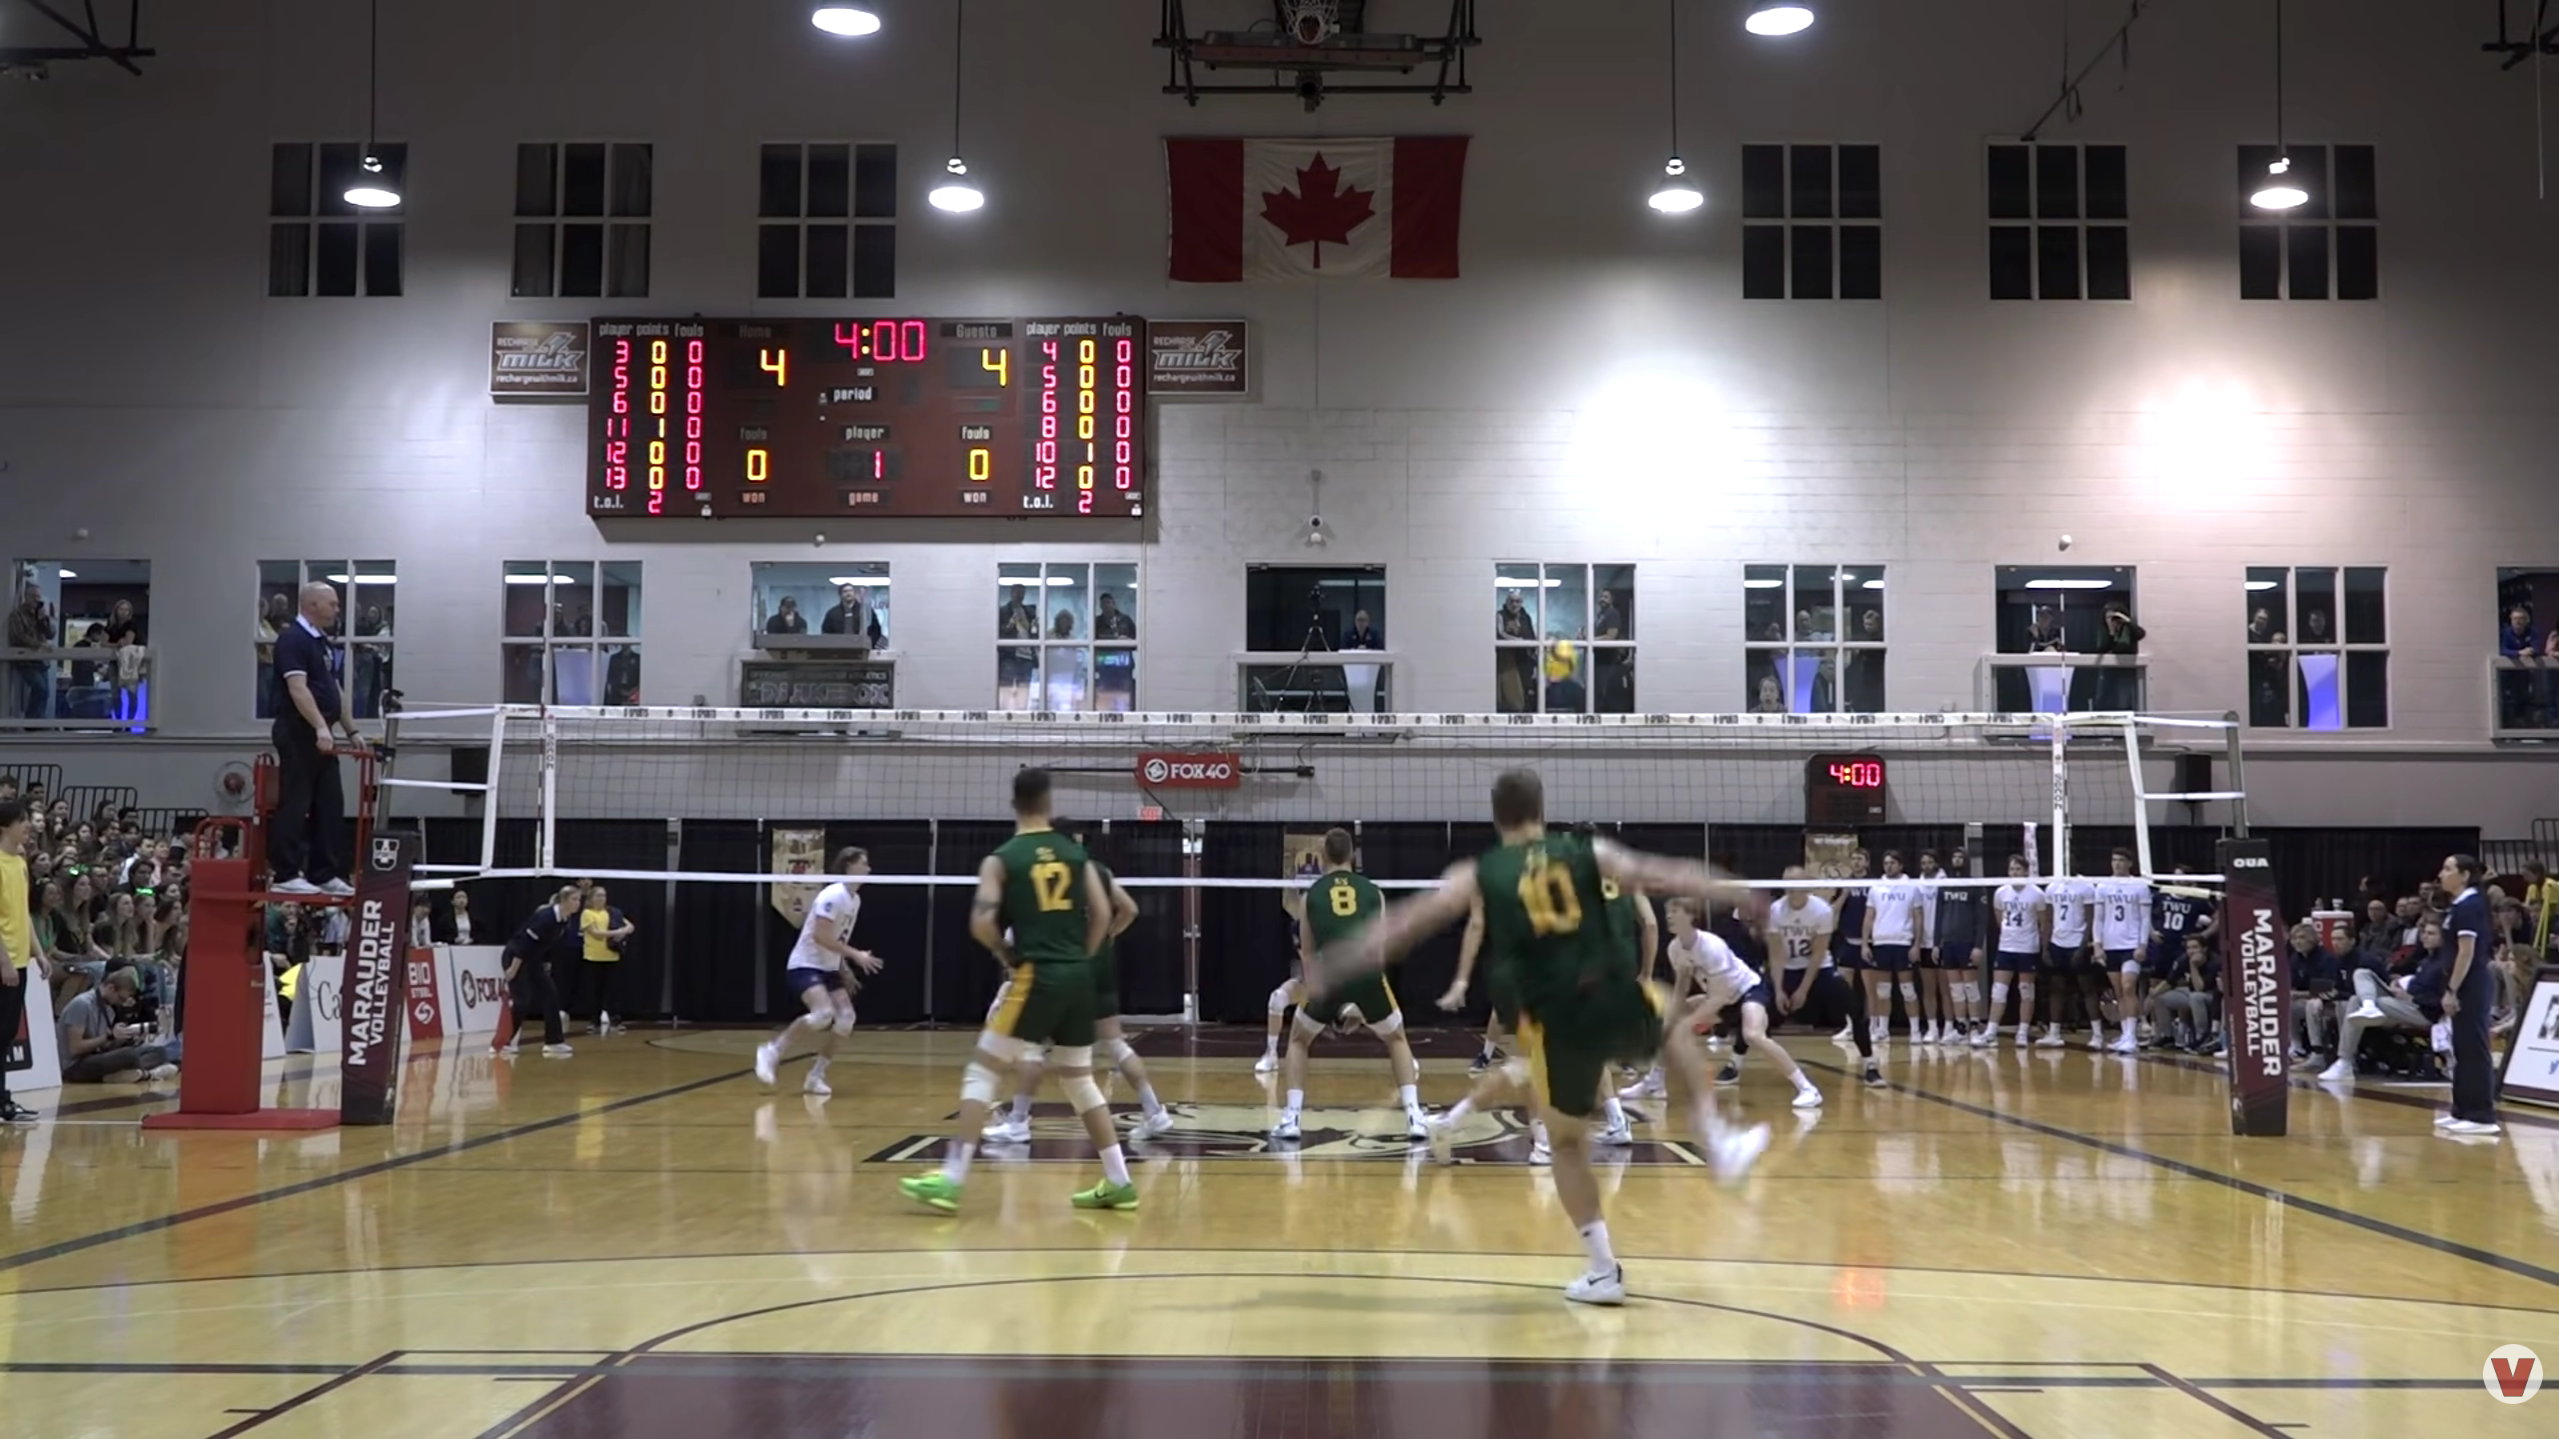Ball: (1540, 638, 1578, 680)
